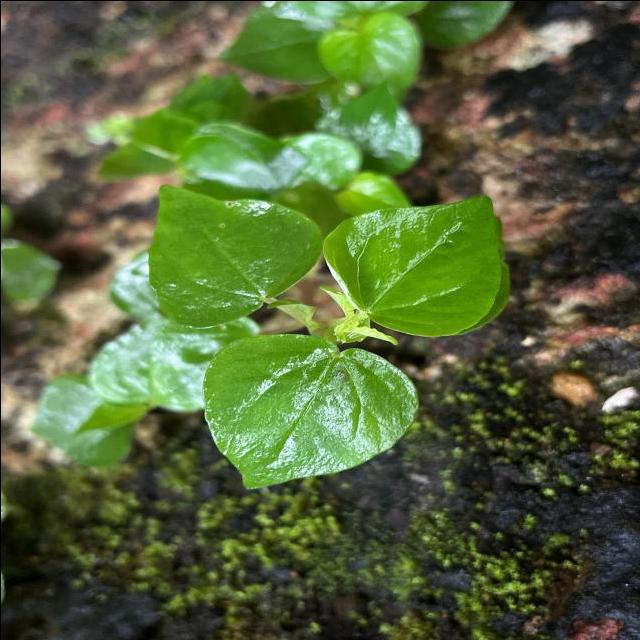Peperomia pellucida: (198, 329, 423, 492), (317, 189, 503, 341)
